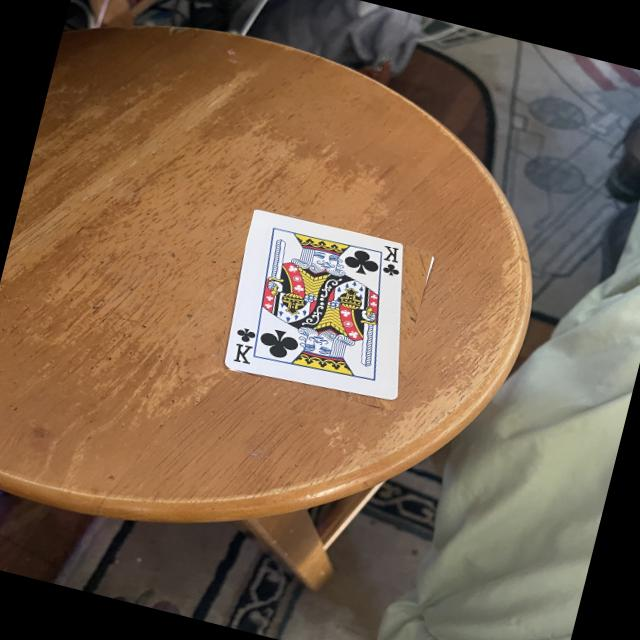King of clubs: (224, 211, 402, 400)
